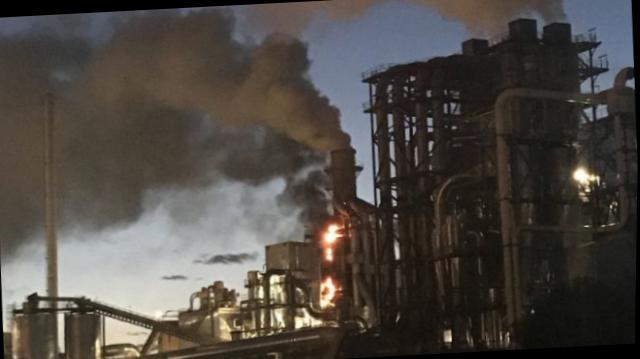fire: (316, 276, 341, 305), (323, 223, 340, 260)
smoke: (0, 0, 352, 170), (51, 155, 238, 240), (236, 150, 333, 225), (245, 0, 380, 36), (429, 0, 572, 27), (0, 170, 50, 245)
